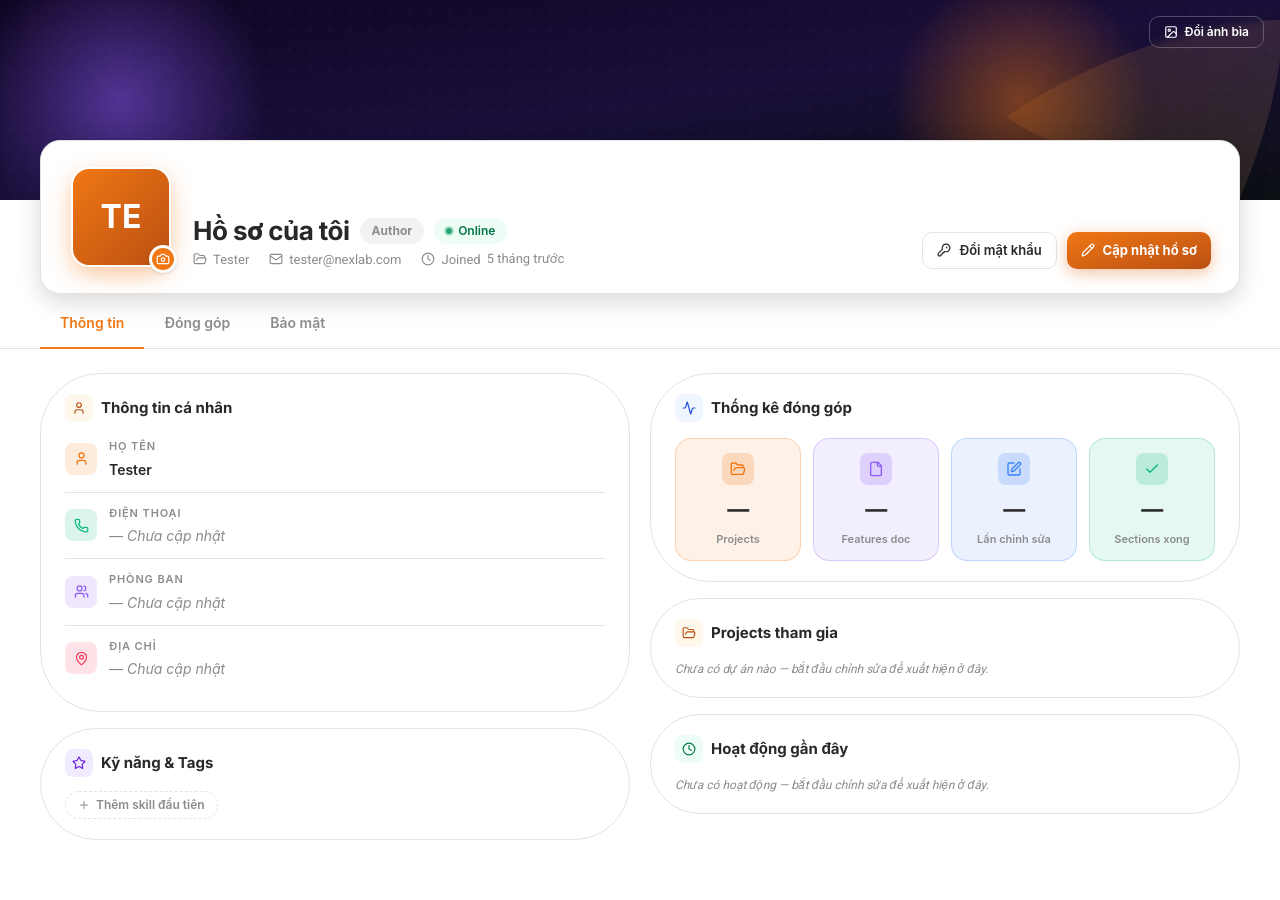
ProfilePage (US-009 / v4.2 — 3 dialog actions) › ChangePasswordDialog: 401 INVALID_CREDENTIALS shows inline error near old-password field
The image size is (1280, 900).
Click the button "Đổi mật khẩu". click: (990, 250)
box: [922, 232, 1057, 269]
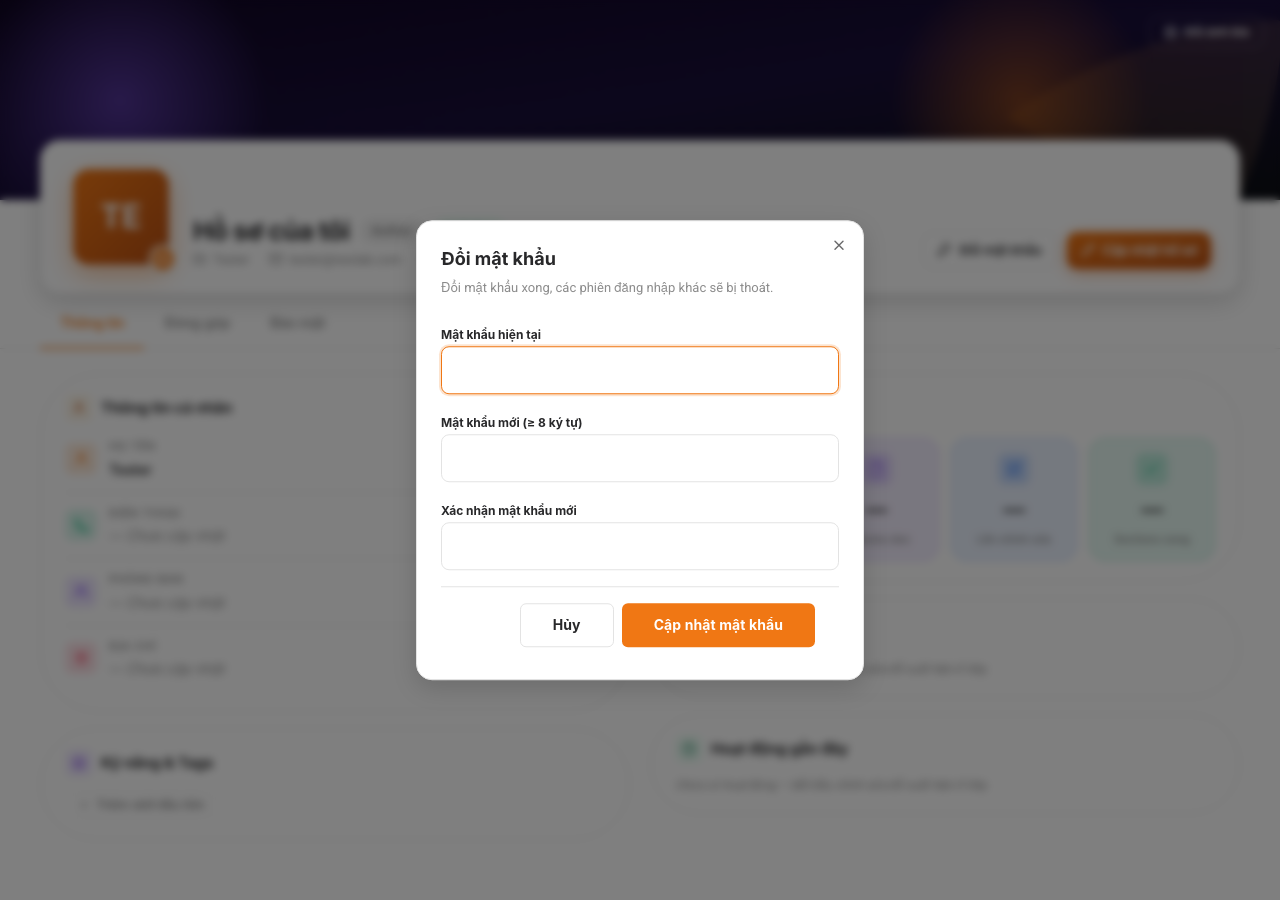
Type "wrong-old" into the password field labelled "Mật khẩu hiện tại". click: (640, 370)
box: [441, 346, 839, 394]
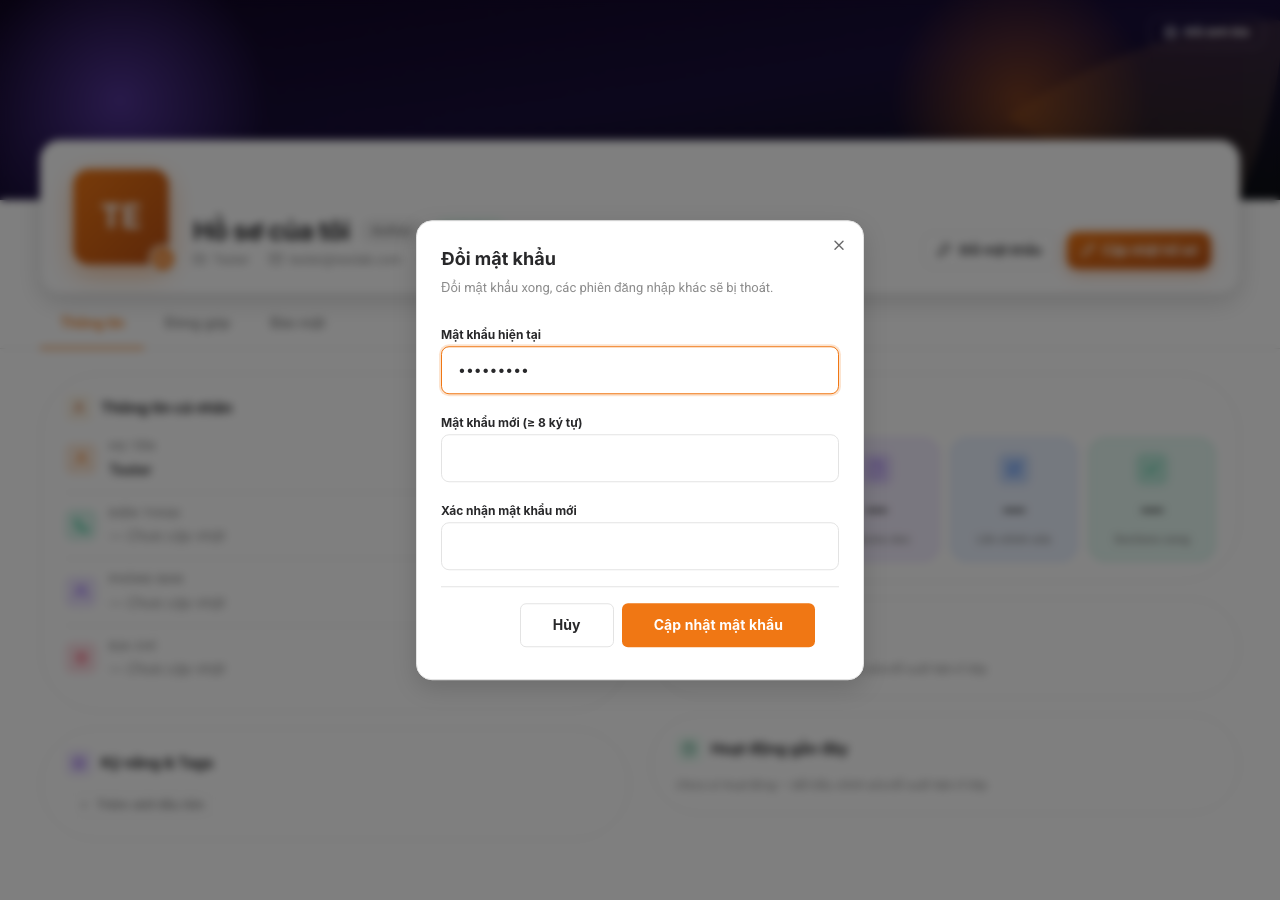
Type "new12345xx" into the password field labelled "Mật khẩu mới (≥ 8 ký tự)". click: (640, 458)
box: [441, 434, 839, 482]
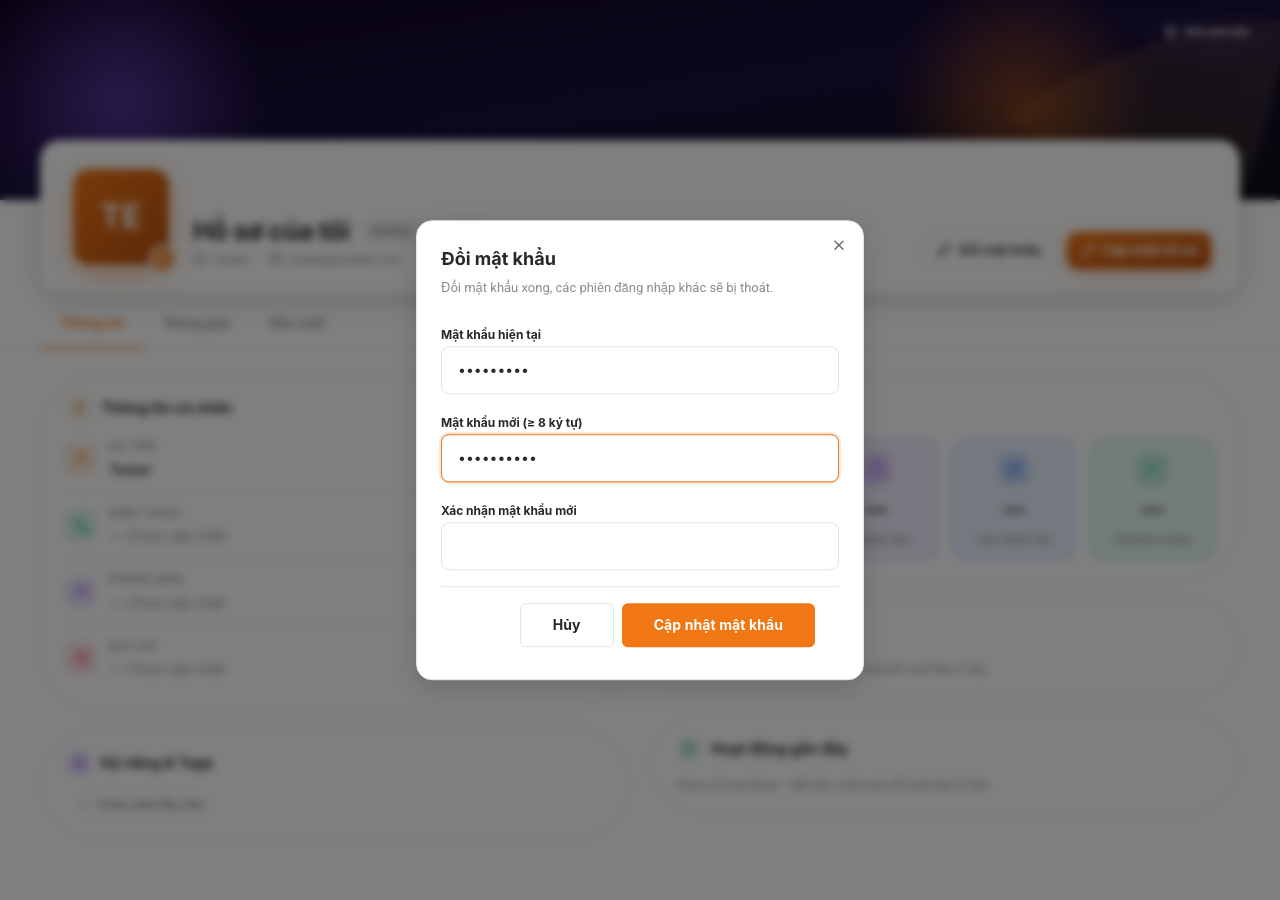
Type "new12345xx" into the password field labelled "Xác nhận mật khẩu mới". click: (640, 546)
box: [441, 522, 839, 570]
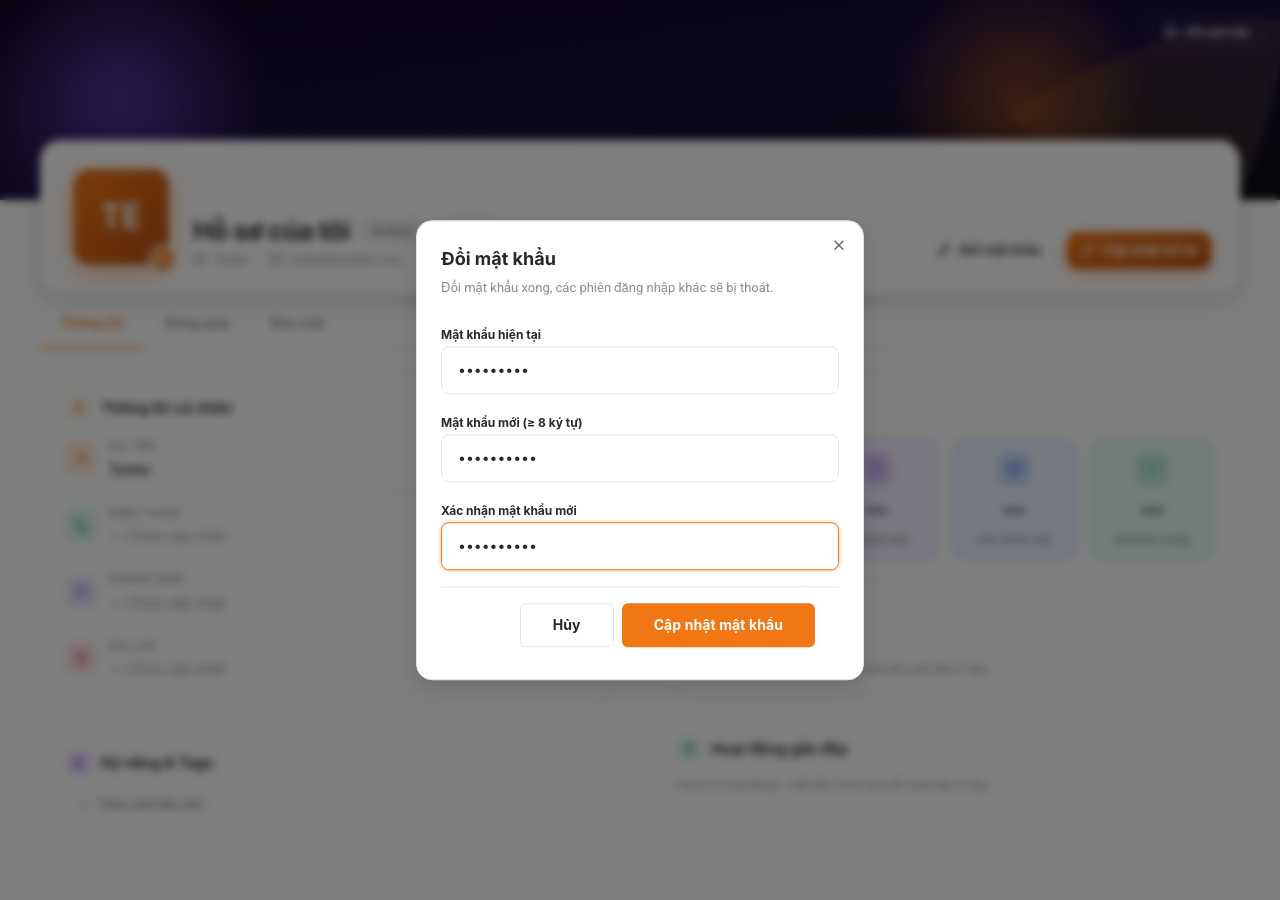
Click the button "Cập nhật mật khẩu". click: (718, 625)
box: [622, 603, 815, 647]
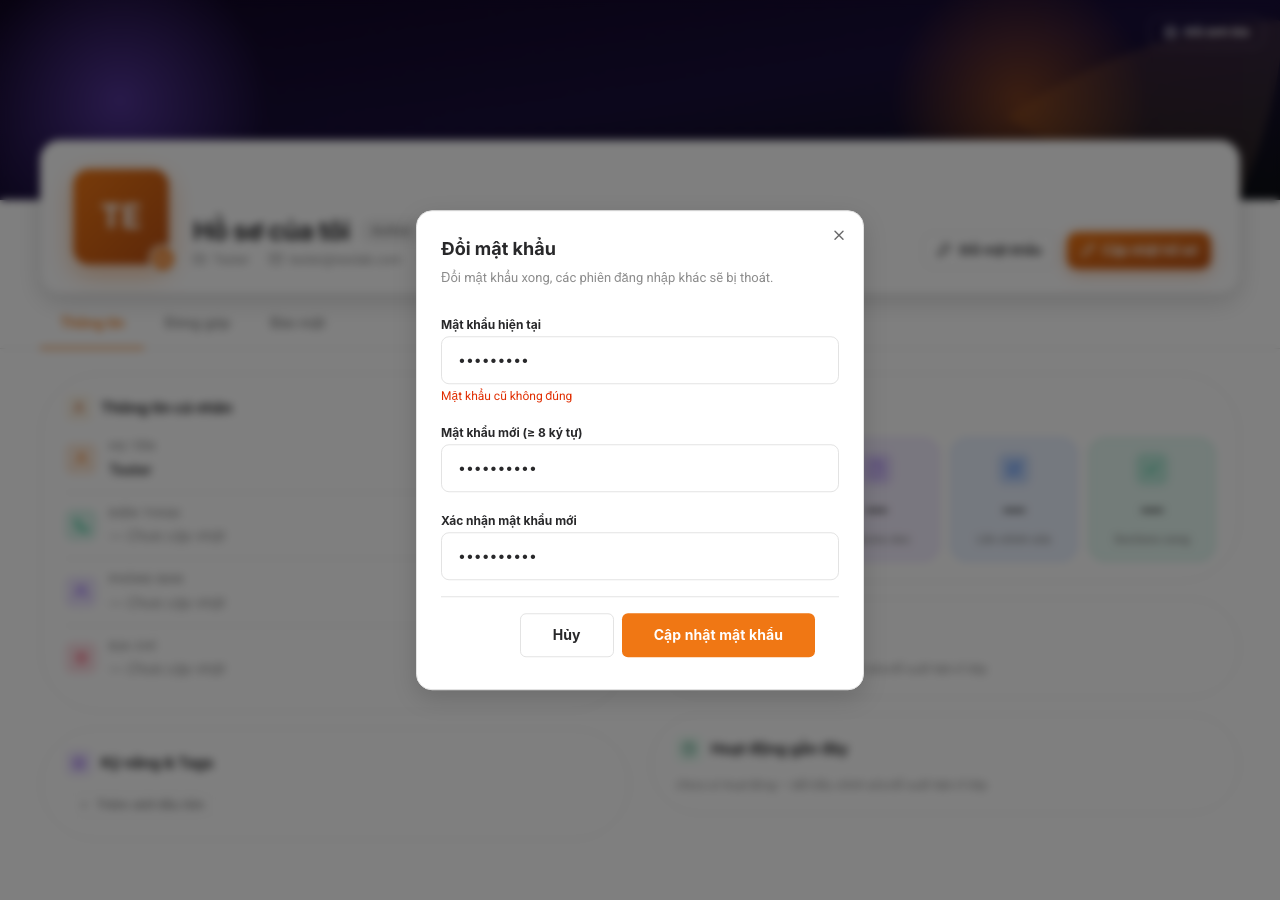
expect the text "Mật khẩu cũ không đúng" is shown: met, box [441, 389, 572, 403]
